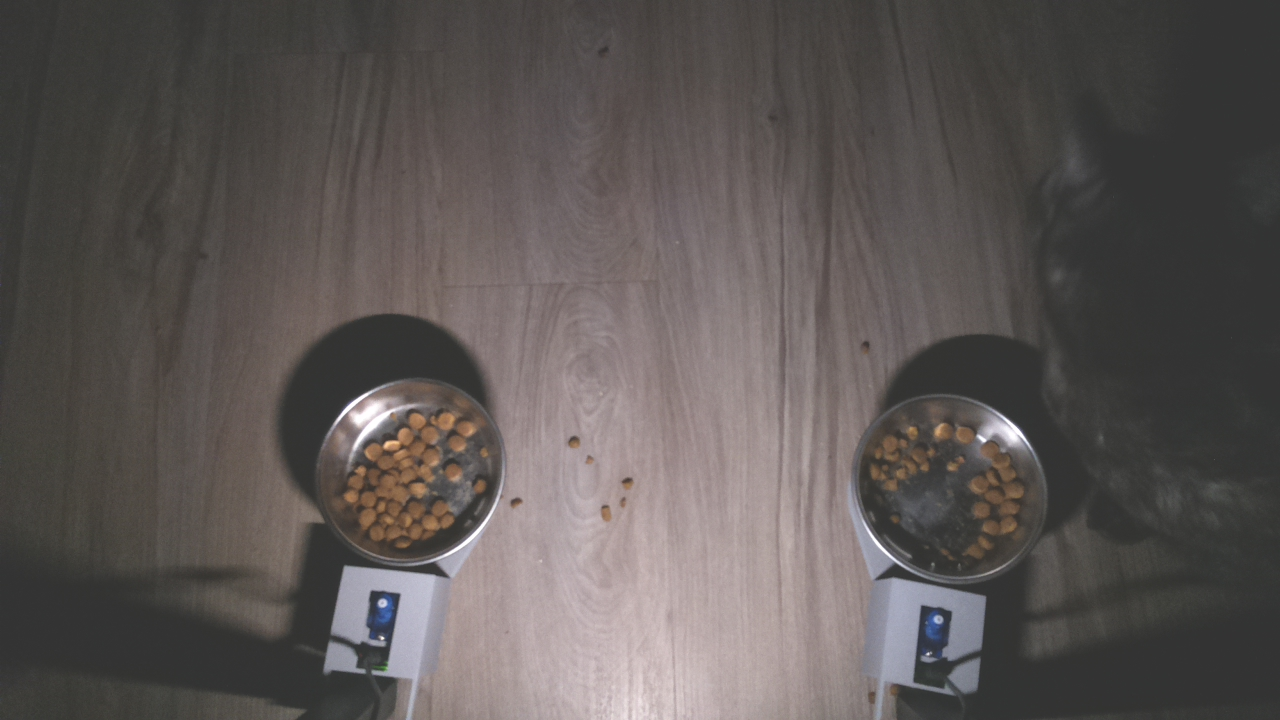open_bowl: (312, 372, 515, 573), (845, 390, 1050, 587)
